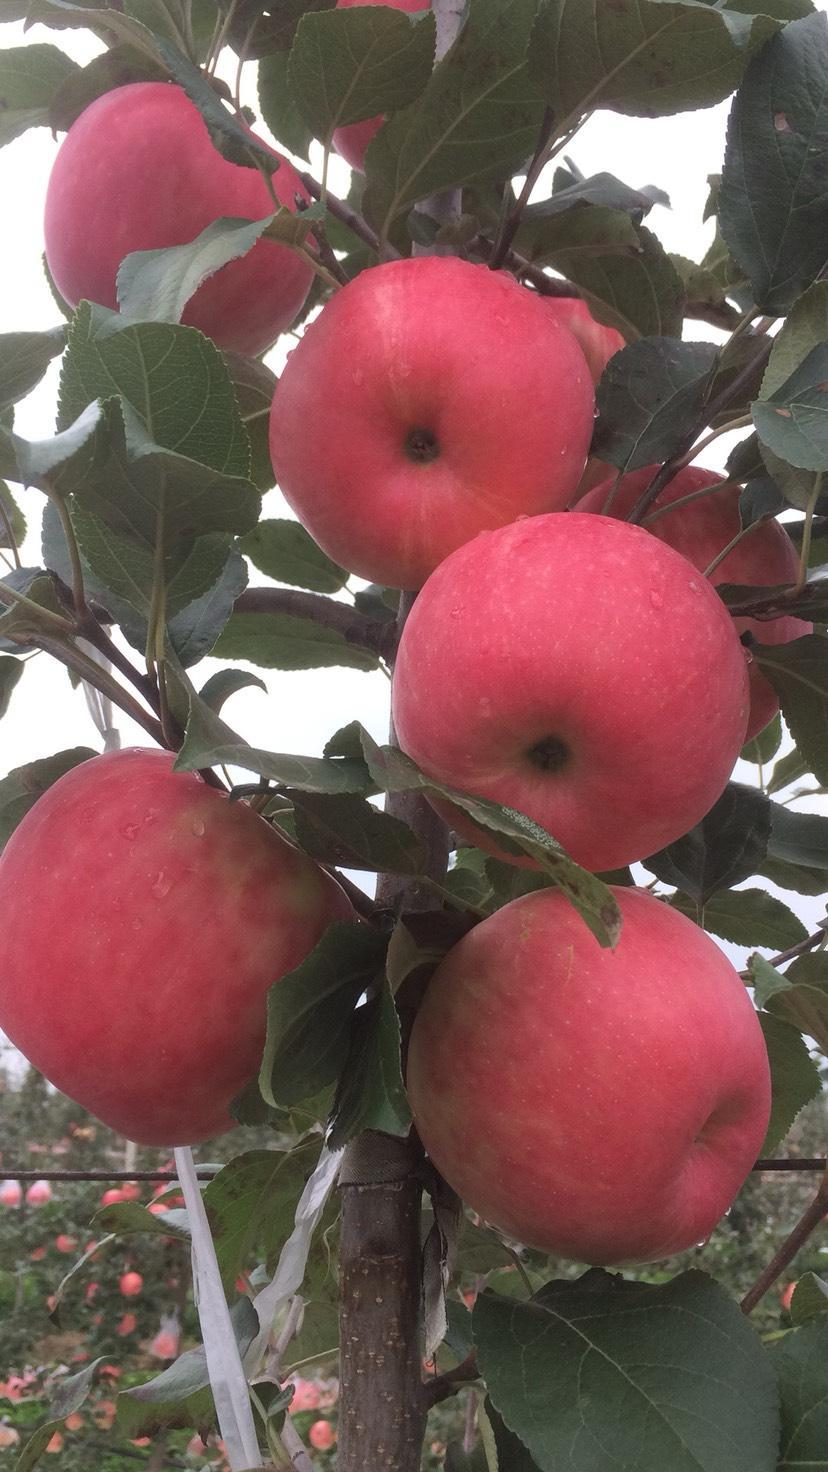apple: (409, 884, 775, 1265), (7, 747, 353, 1133), (390, 518, 749, 864), (263, 228, 604, 572), (42, 83, 311, 351)
